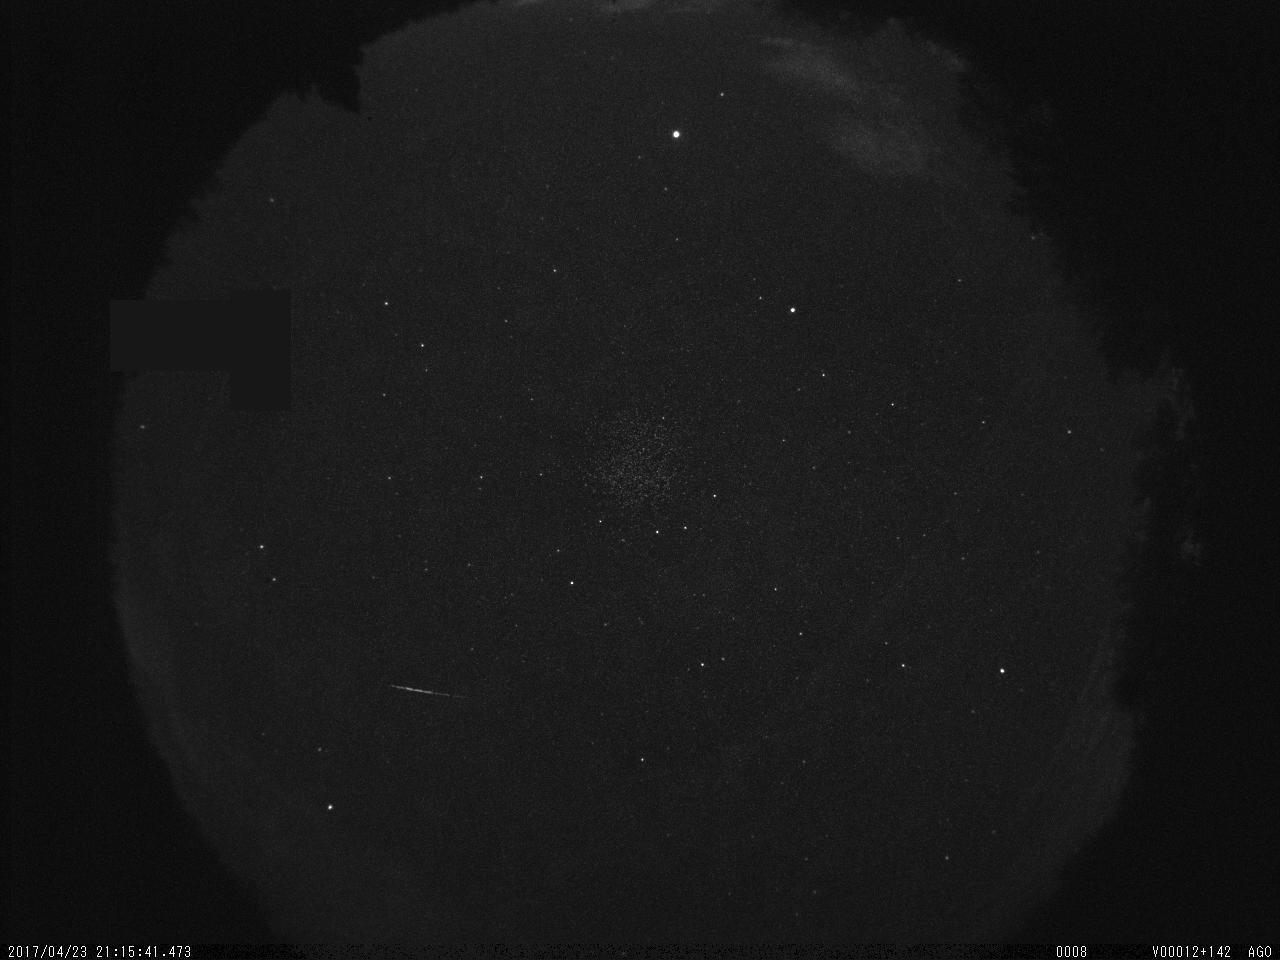Meteor: (386, 679, 475, 707)
